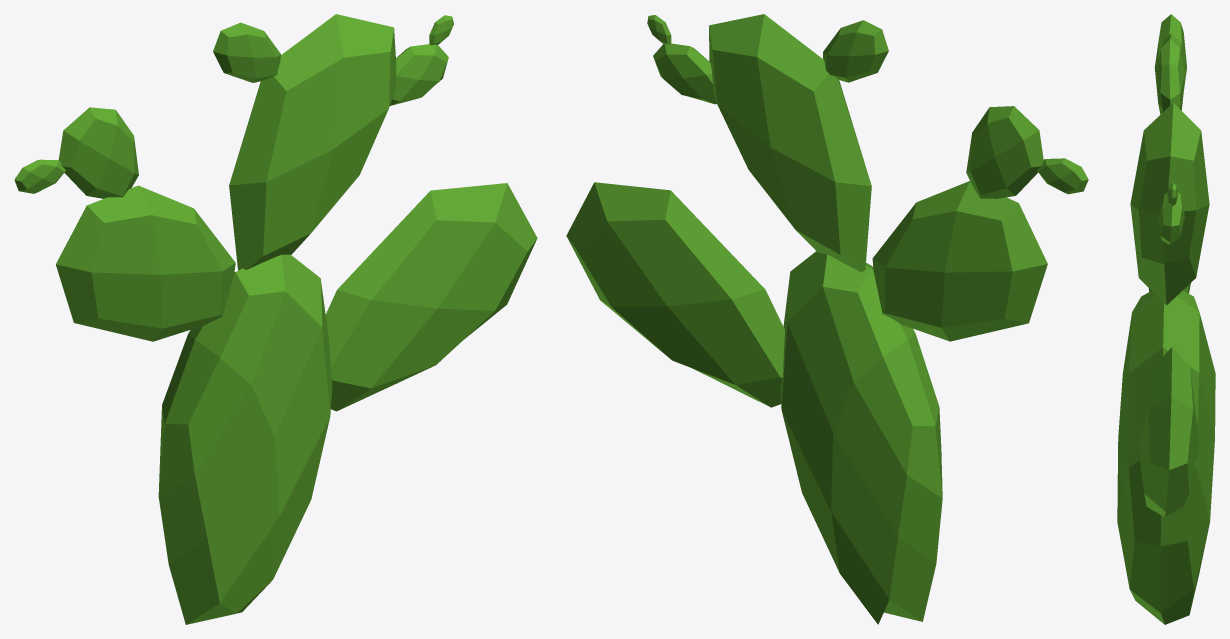
Rendered from Cactus1.fbx.
The picture shows the model from 3 angles, left to right: view 1: azimuth 30°, elevation 25°; view 2: azimuth 150°, elevation 25°; view 3: azimuth 270°, elevation 25°; orthographic projection.
Visible parts, largest first — view 1: Cactus2; view 2: Cactus2; view 3: Cactus2.
Boxes of the visible parts, x1,y1,x2,y2 form: Cactus2: [14, 14, 537, 624]; Cactus2: [566, 14, 1088, 624]; Cactus2: [1117, 14, 1215, 624].
Size of the model in its own units: 506 by 546 by 82.76.
